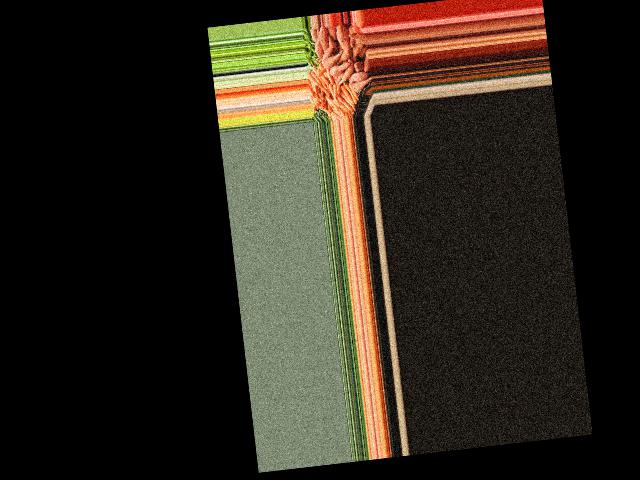carrot: (341, 82, 354, 105)
